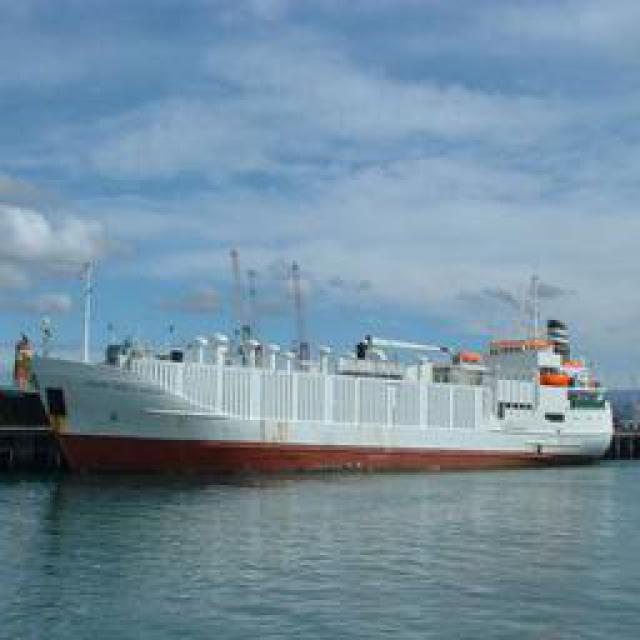Ship: (30, 301, 610, 474)
